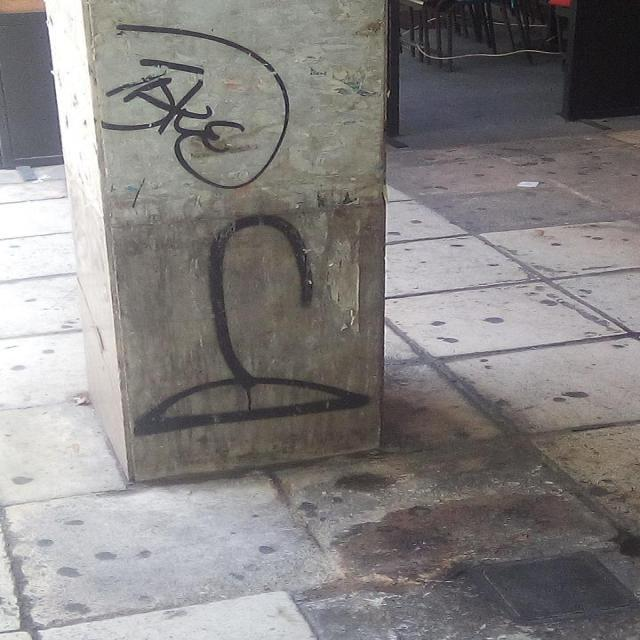nonspitting: (135, 214, 373, 436), (102, 22, 291, 188)
